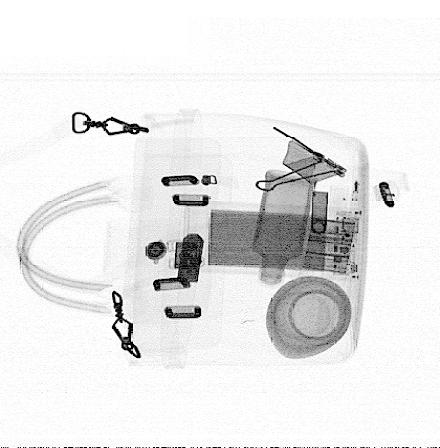Powerbank: (186, 200, 363, 282)
